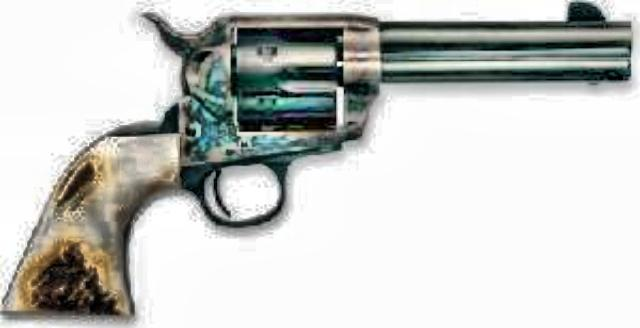pistol: (1, 1, 632, 316)
